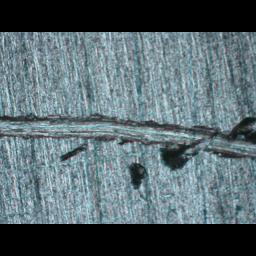d: (0, 103, 255, 196)
